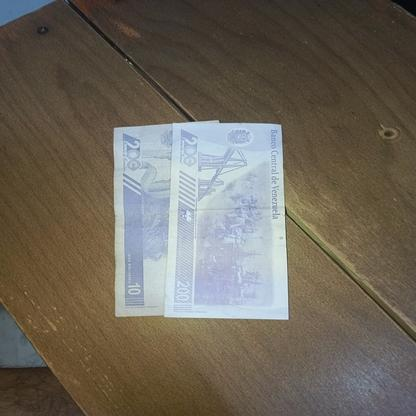ten-back-vef: (113, 119, 174, 317)
two_hundred-back-vef: (164, 121, 288, 319)
